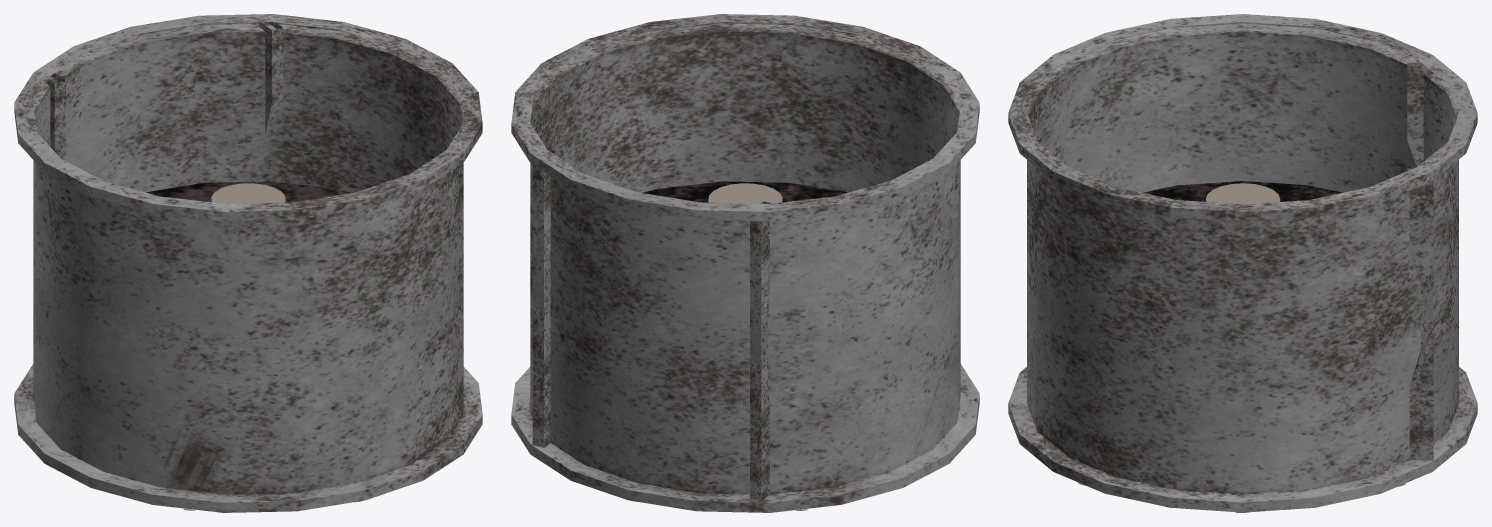
The model's file is fan-motor0.glb.
3 views of the same model, side by side, from view 1: azimuth 30°, elevation 25°; view 2: azimuth 150°, elevation 25°; view 3: azimuth 270°, elevation 25° (orthographic).
Parts seen in each view (by area): view 1: Fan1; view 2: Fan1; view 3: Fan1.
Boxes of the visible parts, bbox=[...] form: Fan1: bbox=[14, 14, 482, 512]; Fan1: bbox=[511, 14, 979, 512]; Fan1: bbox=[1008, 14, 1477, 512].
Bounding box in the file's own units: 3.58 × 2.94 × 3.58.
Materials: 4 (1 with a texture image).
